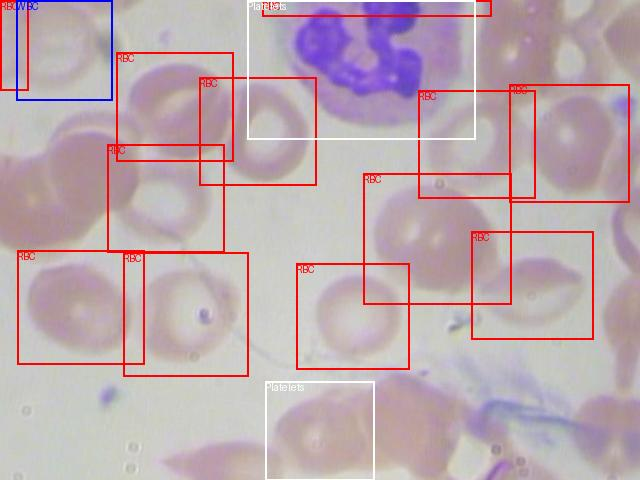Platelets: (247, 0, 475, 139), (265, 381, 374, 480)
RBC: (363, 173, 511, 304), (123, 252, 248, 376), (17, 250, 144, 364), (509, 84, 629, 202), (471, 231, 593, 339), (116, 52, 233, 161), (199, 77, 316, 185), (107, 144, 224, 252), (418, 90, 535, 198), (296, 263, 409, 369), (262, 0, 491, 16), (0, 0, 28, 90)
WBC: (16, 0, 112, 100)
